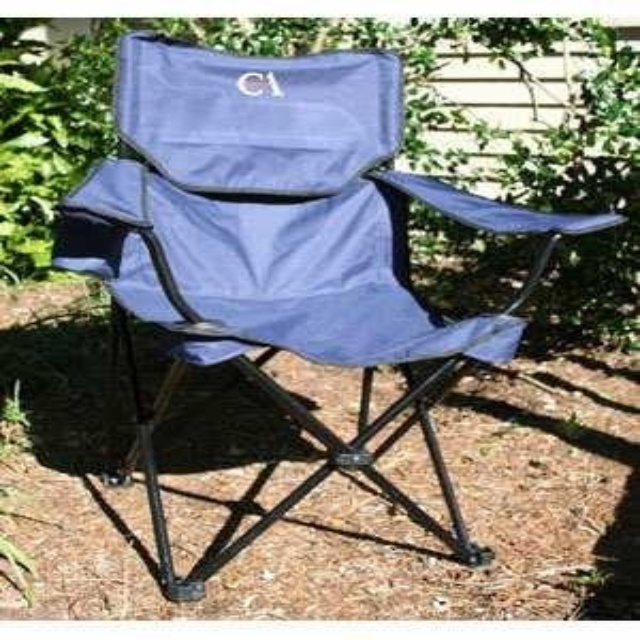obstacle: (55, 33, 621, 598)
